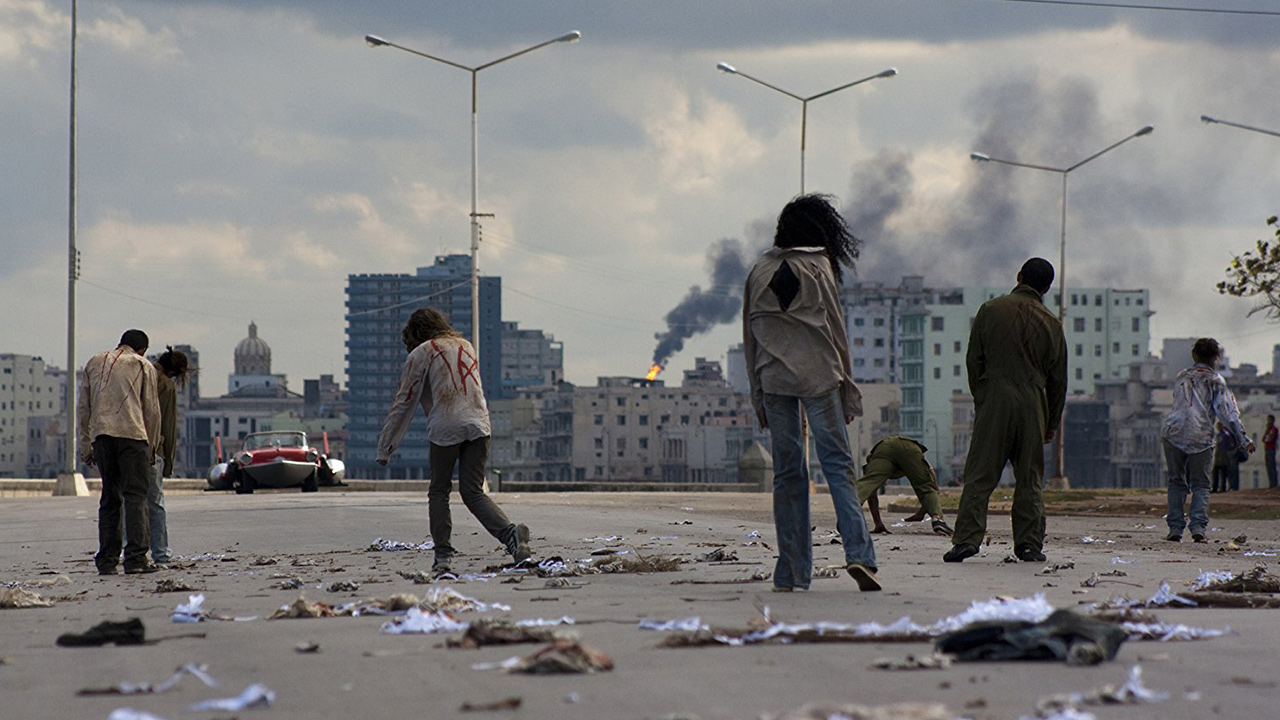human: (740, 194, 887, 598), (374, 305, 533, 576), (942, 255, 1069, 568), (82, 328, 169, 577), (1162, 339, 1247, 544)
